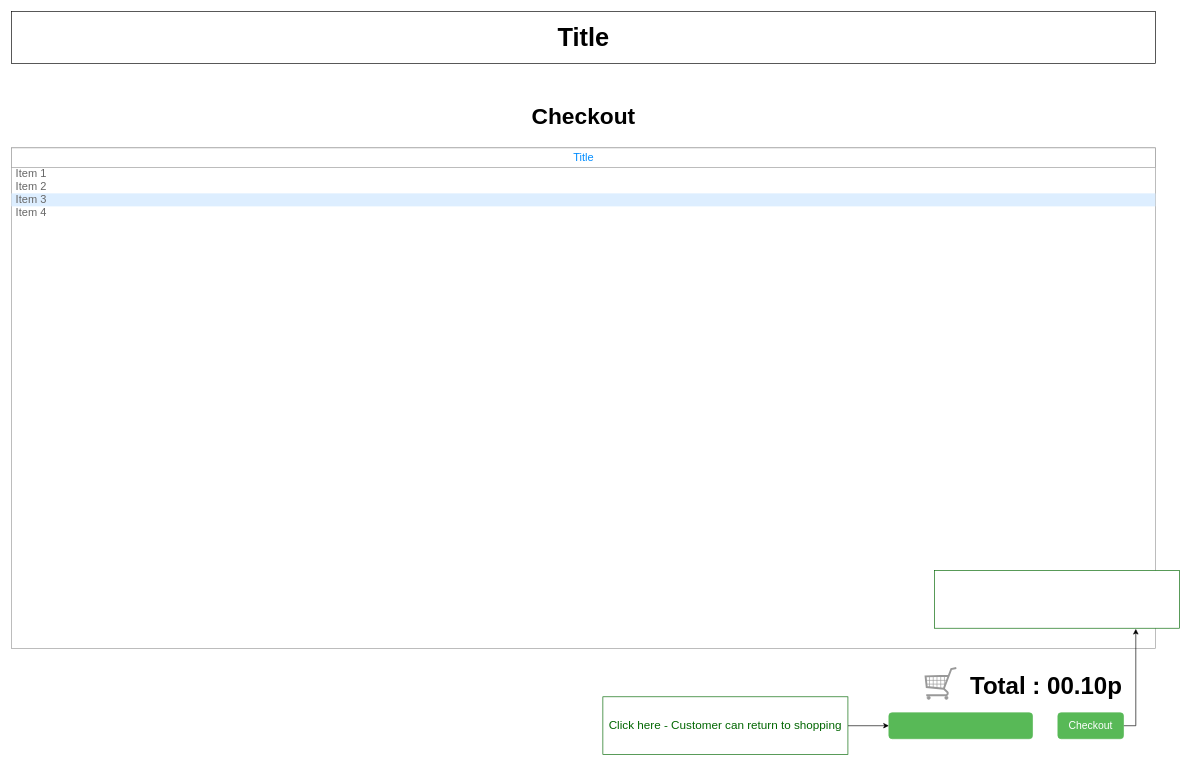
This 1191x766 diagram has some shape labels left out. The centre of each missing label's shape, as x and y in pixels:
"Click here - Customer can check out (no payment page)" goes at (1056,599).
"Continue Shopping" goes at (960,725).
